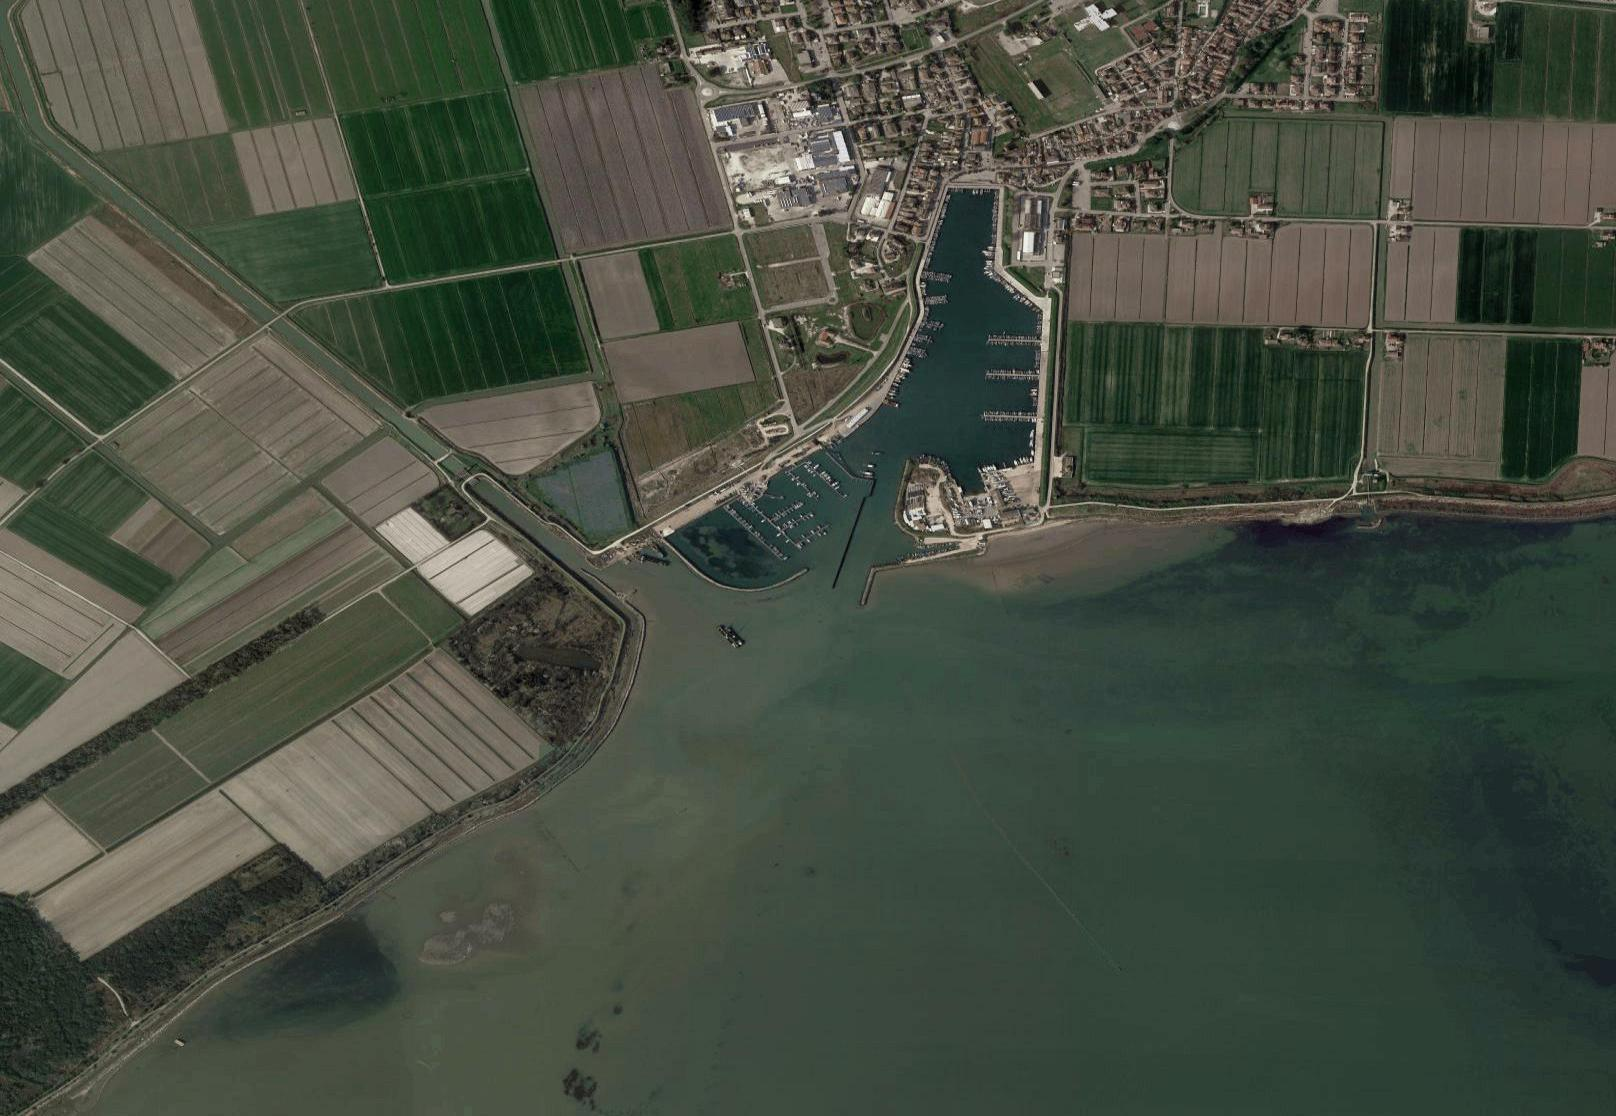harbor: (710, 179, 1081, 640)
